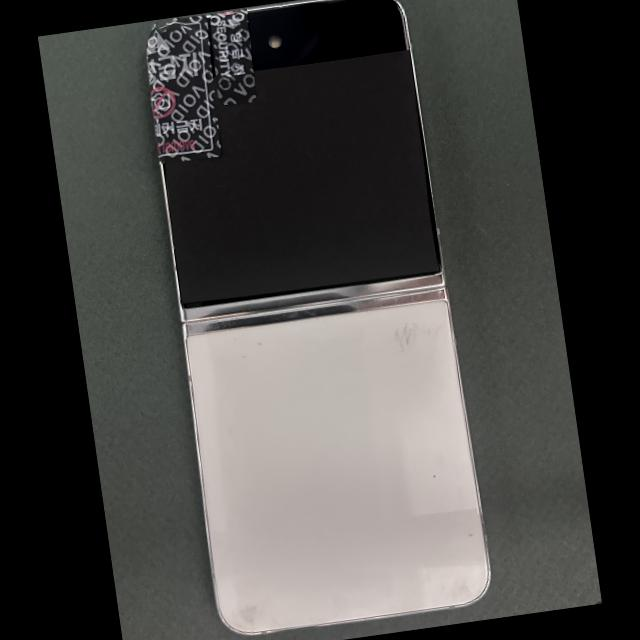phone: (148, 0, 489, 633)
sticker: (146, 14, 223, 165), (210, 8, 256, 105)
